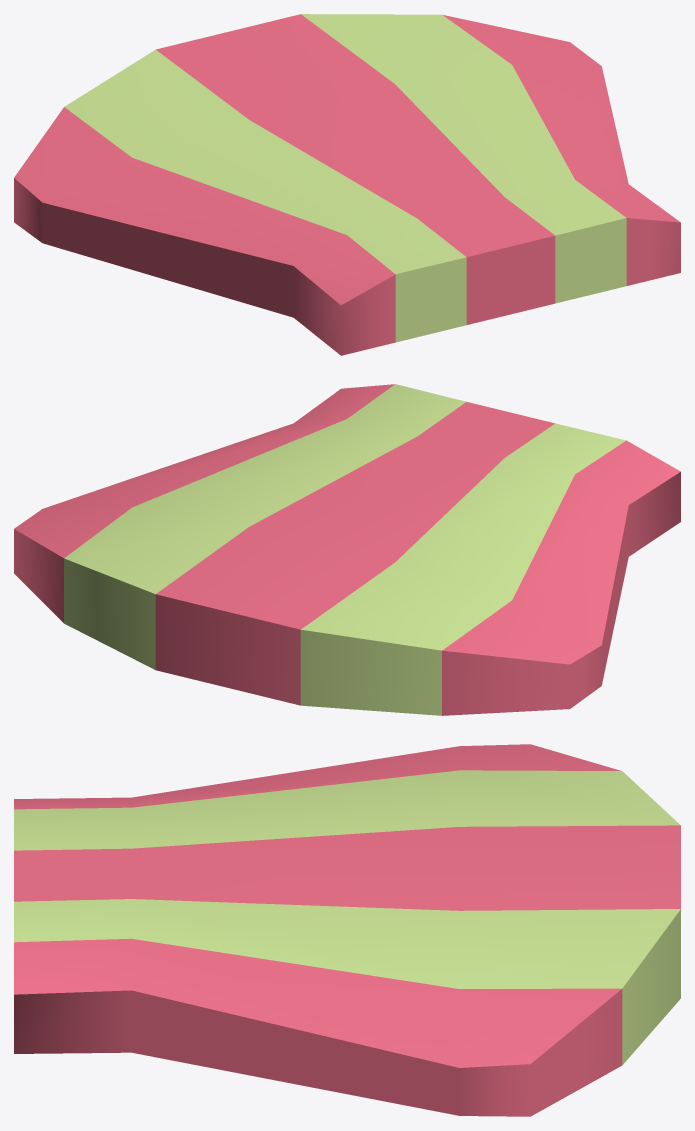
File: concha00.fbx
The picture shows the model from 3 angles, top to bottom: view 1: azimuth 30°, elevation 25°; view 2: azimuth 150°, elevation 25°; view 3: azimuth 270°, elevation 25°; orthographic projection. The views are drawn at different scales.
Parts seen in each view (by area): view 1: concha00; view 2: concha00; view 3: concha00.
Boxes of the visible parts, <box> form: concha00: <box>14,14,680,355</box>; concha00: <box>14,384,680,715</box>; concha00: <box>14,744,680,1116</box>.
Size of the model in its own units: 10.32 by 1.34 by 9.04.
